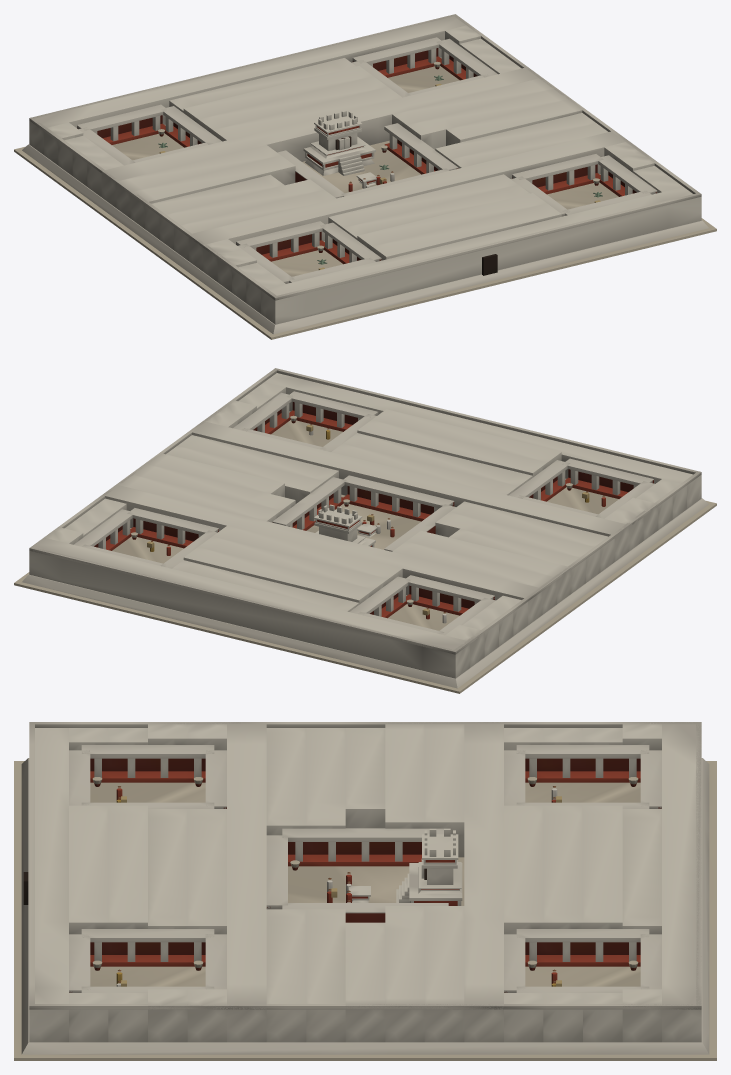
Rendered from tetitla.glb.
3 renders of one model, top to bottom at view 1: azimuth 30°, elevation 25°; view 2: azimuth 150°, elevation 25°; view 3: azimuth 270°, elevation 25°, orthographic. The views are drawn at different scales.
Visible parts, largest first — view 1: p1_compound, p0_ground; view 2: p1_compound, p0_ground; view 3: p1_compound, p0_ground.
Boxes of the visible parts, x1=… form: p1_compound: x1=22, y1=14, x2=708, y2=334; p0_ground: x1=14, y1=146, x2=716, y2=339; p1_compound: x1=22, y1=368, x2=708, y2=688; p0_ground: x1=14, y1=500, x2=716, y2=693; p1_compound: x1=21, y1=722, x2=709, y2=1054; p0_ground: x1=14, y1=761, x2=716, y2=1060.
Bounding box in the file's own units: 64 × 7.33 × 64.
